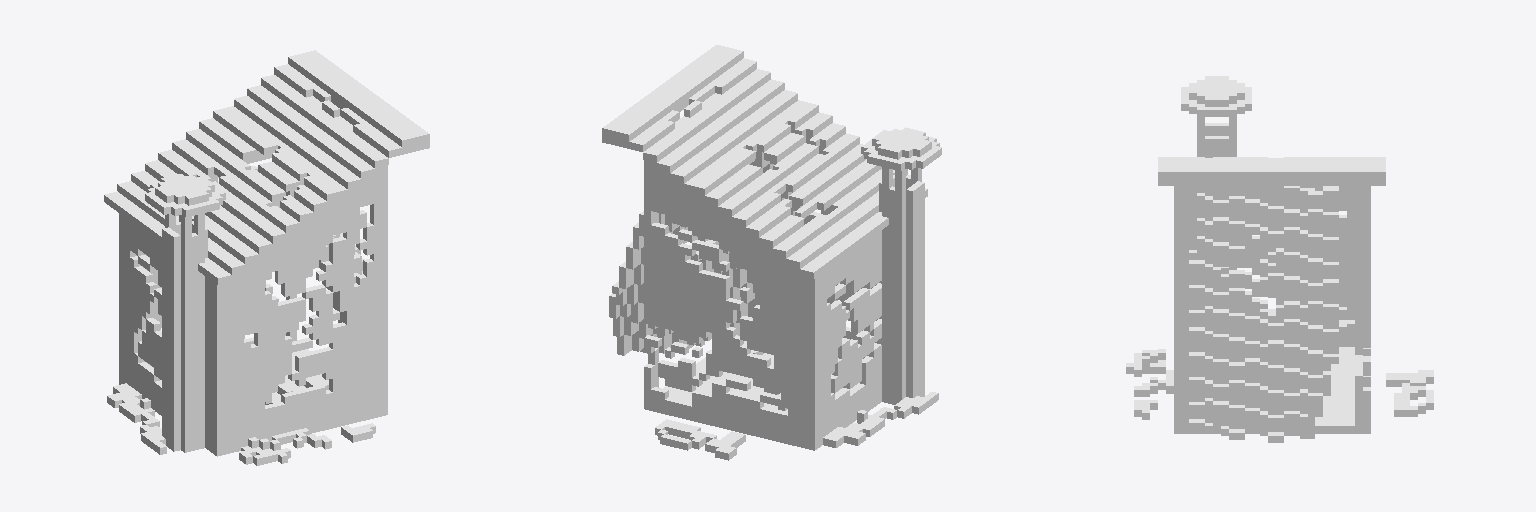
Rendered from outhouse.vox.obj.
The picture shows the model from 3 angles: view 1: azimuth 30°, elevation 25°; view 2: azimuth 150°, elevation 25°; view 3: azimuth 270°, elevation 25°; orthographic projection.
Parts seen in each view (by area): view 1: object 1; view 2: object 1; view 3: object 1.
Boxes of the visible parts, <box> form: object 1: <box>104,50,429,465</box>; object 1: <box>602,45,941,460</box>; object 1: <box>1126,76,1433,442</box>.
Size of the model in its own units: 3.9 by 3.9 by 3.9.